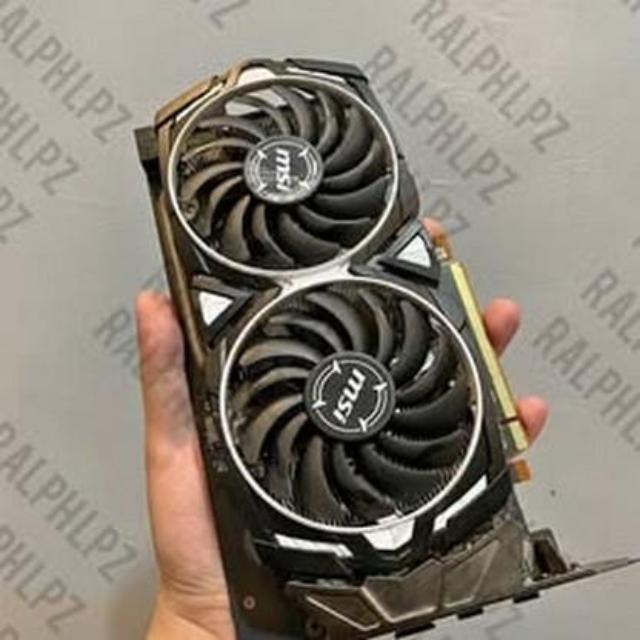GPU: (138, 38, 536, 640)
